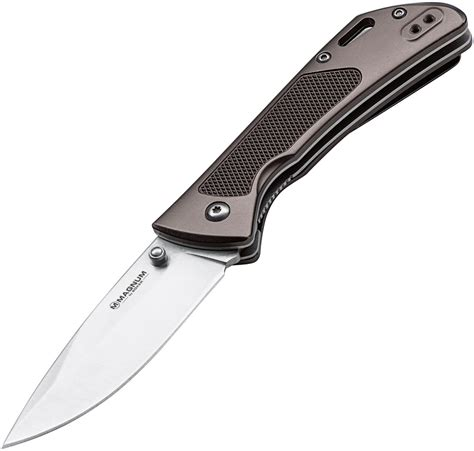knife: (6, 0, 474, 446)
